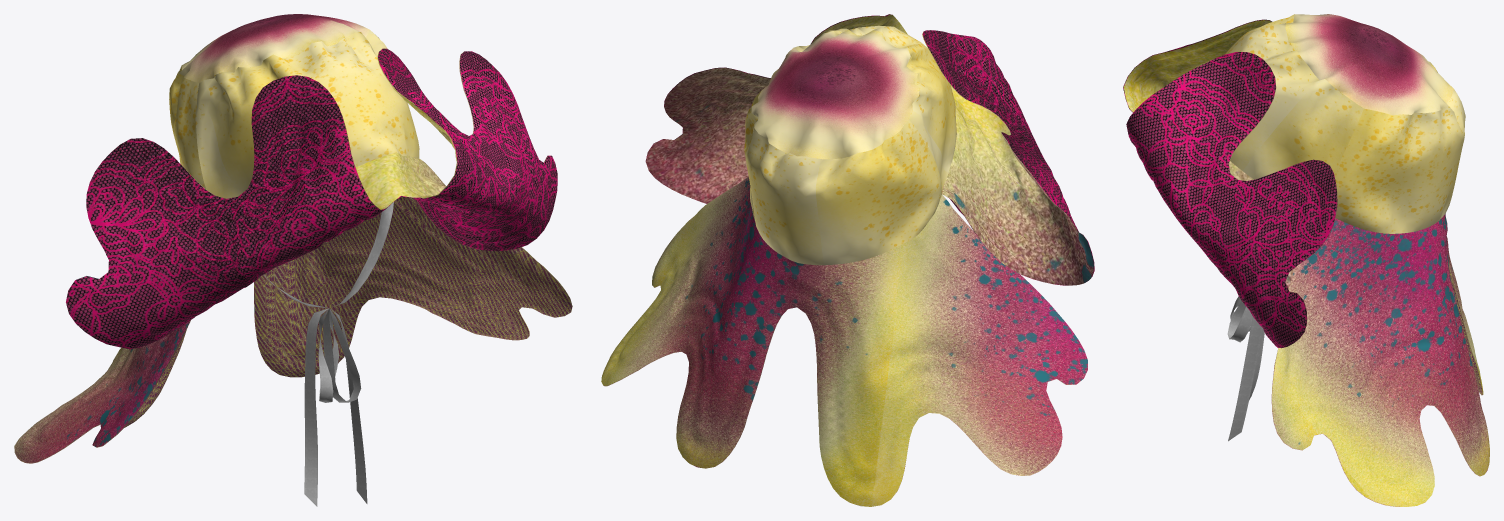
The model's file is sombreroflorfuntasia.glb.
The picture shows the model from 3 angles, left to right: view 1: azimuth 30°, elevation 25°; view 2: azimuth 150°, elevation 25°; view 3: azimuth 270°, elevation 25°; orthographic projection. The views are drawn at different scales.
Parts seen in each view (by area): view 1: Cloth; view 2: Cloth; view 3: Cloth.
Boxes of the visible parts, x1,y1,x2,y2 form: Cloth: (14, 14, 572, 506); Cloth: (601, 14, 1094, 506); Cloth: (1123, 14, 1489, 506).
Size of the model in its own units: 1.46 by 1.23 by 1.01.
10 materials, 10 textured.
